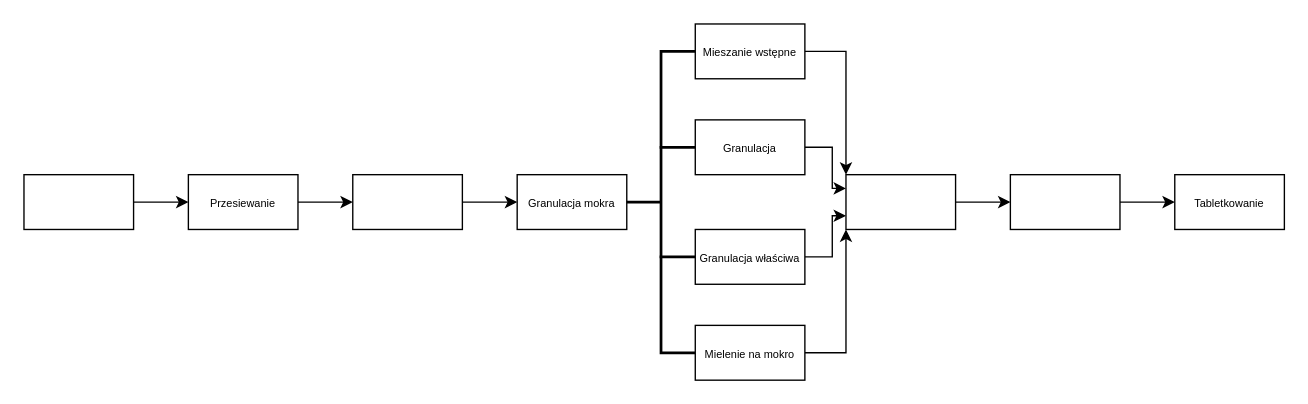
This 1308x404 diagram has some shape labels left out. Here are the shapes that lost their labels. From the top down, the centre of each, then its label:
the point at 78,201: Naważanie
the point at 406,201: Przygotowanie kleiku
the point at 900,201: Suszenie i mielenie granulatu
the point at 1064,201: Homogenizacja
